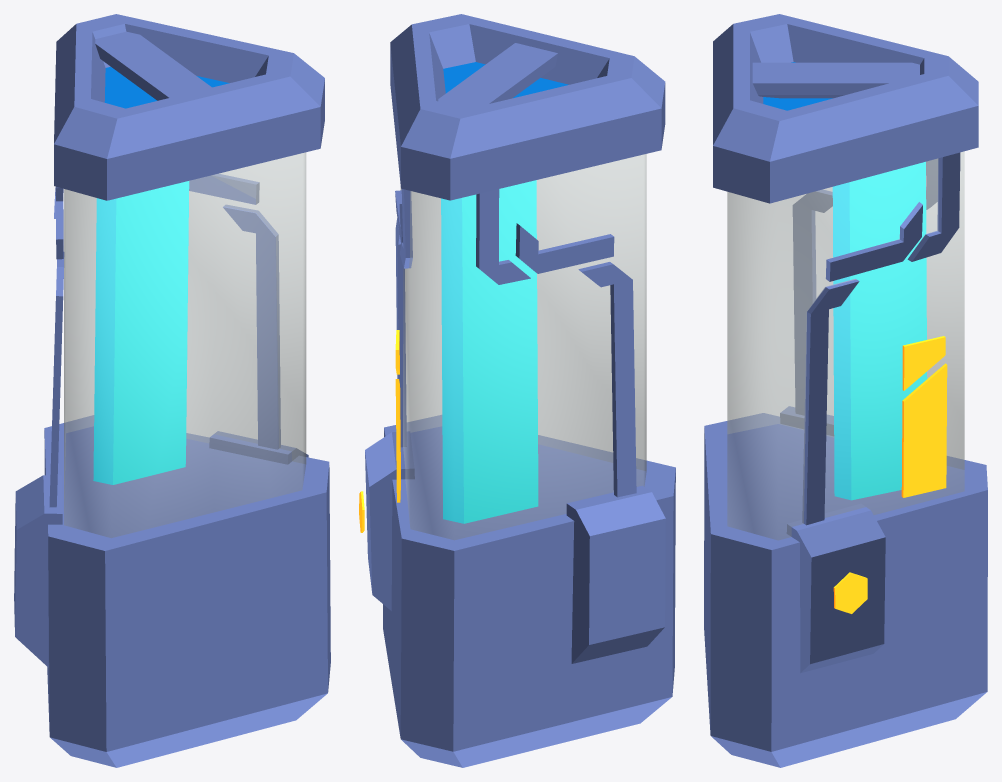
The model's file is battery.FBX.
The picture shows the model from 3 angles, left to right: view 1: azimuth 30°, elevation 25°; view 2: azimuth 150°, elevation 25°; view 3: azimuth 270°, elevation 25°; orthographic projection.
Visible parts, largest first — view 1: Outer, Glass, Core; view 2: Outer, Glass, Core; view 3: Outer, Glass, Core.
Part boxes in pixels (x1,y1,x2,y2): Outer: [14, 14, 330, 767]; Glass: [64, 152, 306, 537]; Core: [93, 181, 189, 484]; Outer: [359, 14, 675, 767]; Glass: [400, 154, 646, 539]; Core: [441, 180, 538, 523]; Outer: [704, 14, 987, 767]; Glass: [727, 151, 964, 540]; Core: [832, 162, 927, 500].
Size of the model in its own units: 54 by 111 by 44.43.
